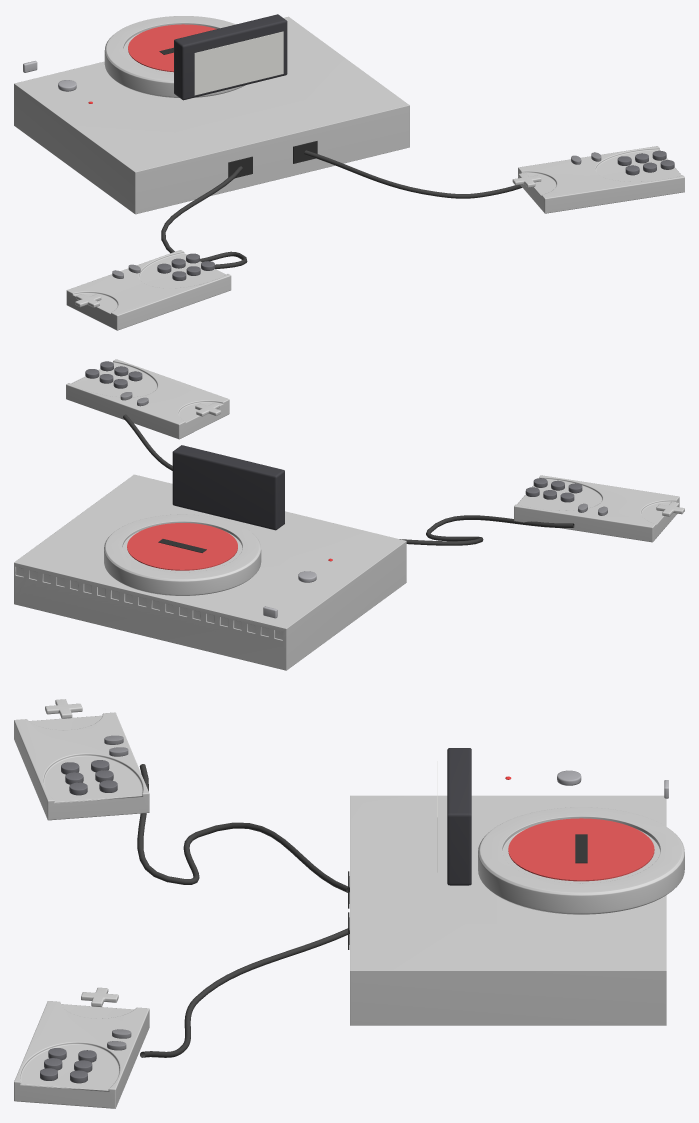
Rendered from 06_MegaDrive.glb.
3 views of the same model, one above another, from view 1: azimuth 30°, elevation 25°; view 2: azimuth 150°, elevation 25°; view 3: azimuth 270°, elevation 25° (orthographic). The views are drawn at different scales.
Parts seen in each view (by area): view 1: MD_Body, Ctrl2_Body, Ctrl1_Body, CartLabel, MD_Cart, LogoPlate, Cable2, Cable1; view 2: MD_Body, MD_Cart, Ctrl2_Body, Ctrl1_Body, LogoPlate, Cable1; view 3: MD_Body, Ctrl1_Body, Ctrl2_Body, LogoPlate, MD_Cart, Cable1, Cable2.
Boxes of the visible parts, x1,y1,x2,y2 form: MD_Body: (14,16,409,214); Ctrl2_Body: (518,146,684,213); Ctrl1_Body: (66,250,231,330); CartLabel: (194,31,283,95); MD_Cart: (174,14,287,100); LogoPlate: (128,24,216,72); Cable2: (304,150,522,198); Cable1: (161,166,247,268); MD_Body: (14,474,406,670); MD_Cart: (172,445,284,530); Ctrl2_Body: (66,359,229,439); Ctrl1_Body: (514,475,679,542); LogoPlate: (127,523,237,570); Cable1: (399,515,574,545); MD_Body: (350,795,684,1025); Ctrl1_Body: (14,712,149,820); Ctrl2_Body: (14,1001,149,1108); LogoPlate: (508,818,654,881); MD_Cart: (447,748,471,885); Cable1: (137,764,349,892); Cable2: (140,928,349,1057).
Bounding box in the file's own units: 7.45 × 1.51 × 5.51.
